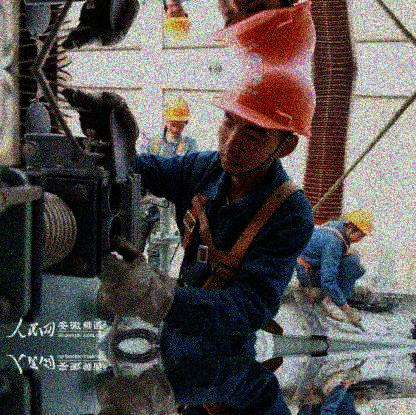helmet: (211, 67, 318, 173), (163, 3, 192, 42), (163, 95, 190, 135), (345, 208, 375, 243)
